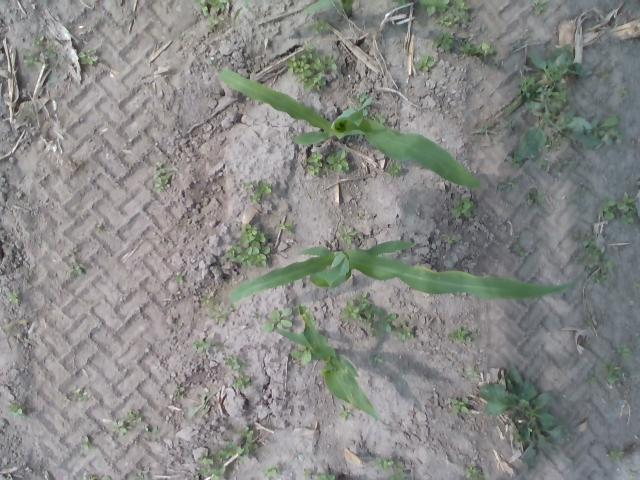Maize: (218, 66, 482, 190), (229, 240, 582, 301), (274, 306, 390, 426), (233, 0, 353, 26)
Weeds: (504, 42, 606, 170), (479, 364, 568, 468), (284, 39, 338, 92), (570, 228, 616, 284), (220, 222, 272, 268), (212, 425, 258, 463), (366, 307, 414, 340), (418, 0, 473, 26), (590, 114, 624, 144), (224, 354, 252, 390), (339, 294, 374, 321), (150, 160, 176, 192), (372, 456, 405, 480), (241, 179, 272, 203), (112, 409, 140, 435), (263, 307, 292, 332), (197, 457, 227, 480), (458, 41, 496, 59), (616, 193, 638, 224), (186, 392, 212, 416), (600, 358, 624, 384), (326, 147, 350, 172), (474, 118, 499, 142), (290, 342, 318, 363), (210, 304, 238, 324), (464, 460, 490, 480), (352, 90, 371, 117), (306, 149, 324, 177), (430, 29, 454, 50), (451, 197, 475, 218), (196, 0, 229, 15), (447, 326, 473, 344), (190, 337, 214, 356), (338, 224, 358, 246), (20, 48, 41, 68), (597, 196, 614, 220), (78, 48, 100, 65), (525, 188, 548, 204), (414, 54, 434, 71), (449, 396, 468, 413), (498, 178, 518, 194), (7, 404, 26, 420), (310, 18, 330, 33), (530, 0, 548, 15), (44, 42, 60, 58), (616, 342, 630, 360), (277, 221, 295, 235), (339, 404, 354, 420), (68, 263, 84, 276), (207, 14, 220, 30), (264, 465, 278, 479), (610, 448, 624, 462), (596, 66, 610, 80), (386, 164, 402, 176), (512, 243, 526, 256), (142, 424, 159, 434), (89, 473, 112, 480), (74, 389, 88, 400), (200, 295, 212, 307), (578, 185, 591, 196), (131, 470, 145, 480), (316, 473, 336, 480), (172, 274, 186, 284), (8, 292, 20, 303), (32, 33, 43, 45), (373, 113, 386, 123), (443, 235, 459, 243), (616, 88, 628, 98), (466, 368, 479, 377), (303, 469, 313, 480), (82, 436, 90, 449), (372, 355, 382, 365), (318, 366, 328, 376), (394, 0, 407, 6), (631, 282, 640, 290), (586, 318, 594, 326), (588, 375, 596, 382)
